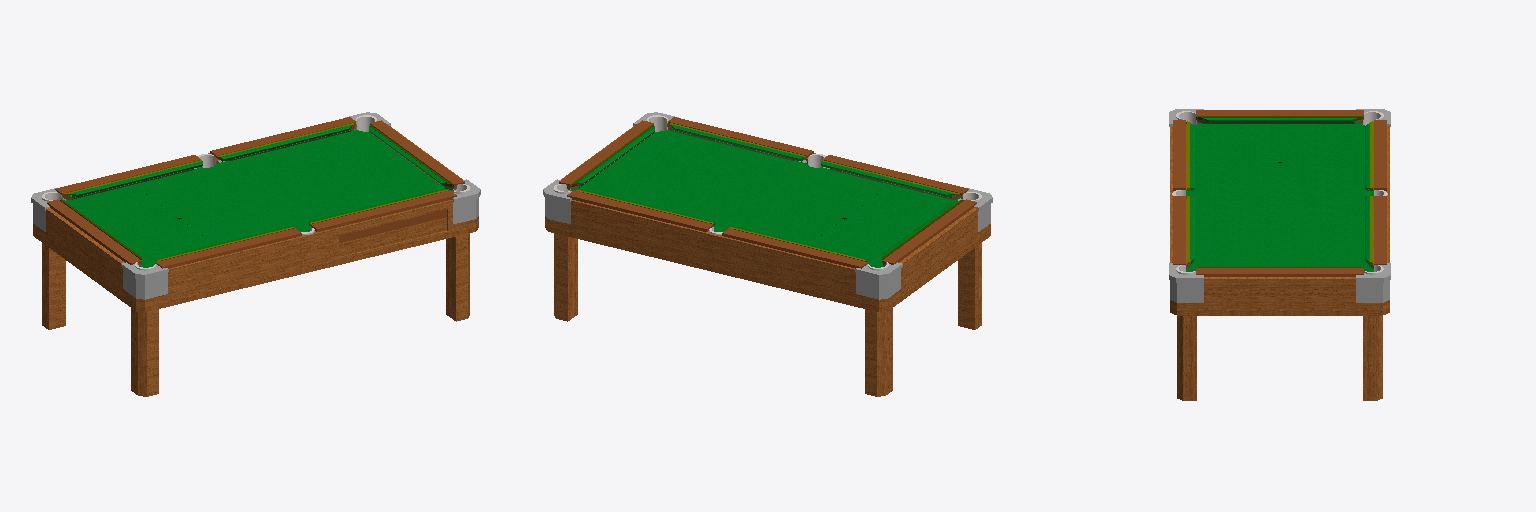
3 views of the same model, side by side, from view 1: azimuth 30°, elevation 25°; view 2: azimuth 150°, elevation 25°; view 3: azimuth 270°, elevation 25° (orthographic).
Parts seen in each view (by area): view 1: Mesh47_87, Mesh02_42, Mesh04_44, Table_Leg2_125, Table_Leg4_127, Table_Leg3_126, Top_129, Mesh09_49, Siderail14_110, Siderail19_115, Corner_T01_14, Endrail_02_29 (+8 smaller); view 2: Mesh47_87, Mesh03_43, Mesh04_44, Table_Leg3_126, Table_Leg1_124, Table_Leg2_125, Top_129, Siderail04_99, Siderail09_104, Corner_T02_15, Endrail_02_29, Endrail_07_34 (+6 smaller); view 3: Mesh47_87, Mesh01_41, Table_Leg4_127, Table_Leg1_124, Endrail_07_34, Top_129, Corner_T03_16, Corner_Tri_17, Endrail_02_29, Siderail09_104, Siderail19_115, Siderail04_99 (+2 smaller).
Boxes of the visible parts, box(x1,y1,x2,y2) form: Mesh47_87: box(66, 130, 453, 267); Mesh02_42: box(148, 203, 473, 309); Mesh04_44: box(35, 211, 134, 307); Table_Leg2_125: box(131, 308, 158, 396); Table_Leg4_127: box(446, 233, 469, 321); Table_Leg3_126: box(42, 243, 65, 329); Top_129: box(46, 125, 462, 271); Mesh09_49: box(339, 217, 446, 256); Siderail14_110: box(311, 191, 456, 231); Siderail19_115: box(156, 228, 301, 268); Corner_T01_14: box(121, 262, 168, 299); Endrail_02_29: box(47, 199, 141, 264); Mesh47_87: box(570, 130, 957, 267); Mesh03_43: box(550, 203, 875, 309); Mesh04_44: box(889, 211, 988, 307); Table_Leg3_126: box(865, 308, 892, 396); Table_Leg1_124: box(554, 233, 577, 321); Table_Leg2_125: box(958, 243, 981, 329); Top_129: box(561, 125, 977, 271); Siderail04_99: box(567, 191, 712, 231); Siderail09_104: box(722, 228, 867, 268); Corner_T02_15: box(855, 262, 902, 299); Endrail_02_29: box(882, 199, 976, 264); Endrail_07_34: box(559, 120, 653, 186); Mesh47_87: box(1186, 123, 1373, 271); Mesh01_41: box(1180, 281, 1379, 313); Table_Leg4_127: box(1177, 316, 1196, 400); Table_Leg1_124: box(1363, 316, 1382, 400); Endrail_07_34: box(1196, 268, 1363, 276); Top_129: box(1170, 126, 1389, 280); Corner_T03_16: box(1169, 263, 1203, 302); Corner_Tri_17: box(1356, 263, 1390, 302); Endrail_02_29: box(1196, 110, 1363, 118); Siderail09_104: box(1374, 120, 1386, 190); Siderail19_115: box(1173, 120, 1185, 190); Siderail04_99: box(1374, 196, 1386, 264).
Size of the model in its own units: 90.4 by 32 by 50.4.
Materials: 12 (2 with a texture image).